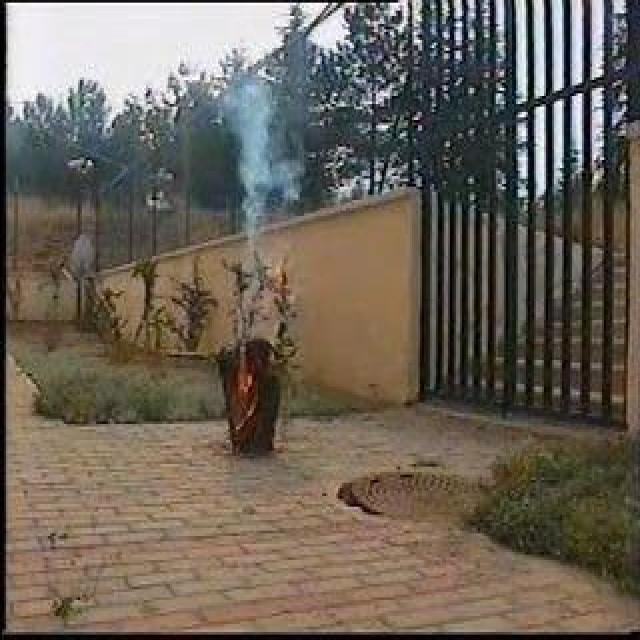Fire: (235, 348, 257, 417)
Smoke: (234, 77, 300, 248)
